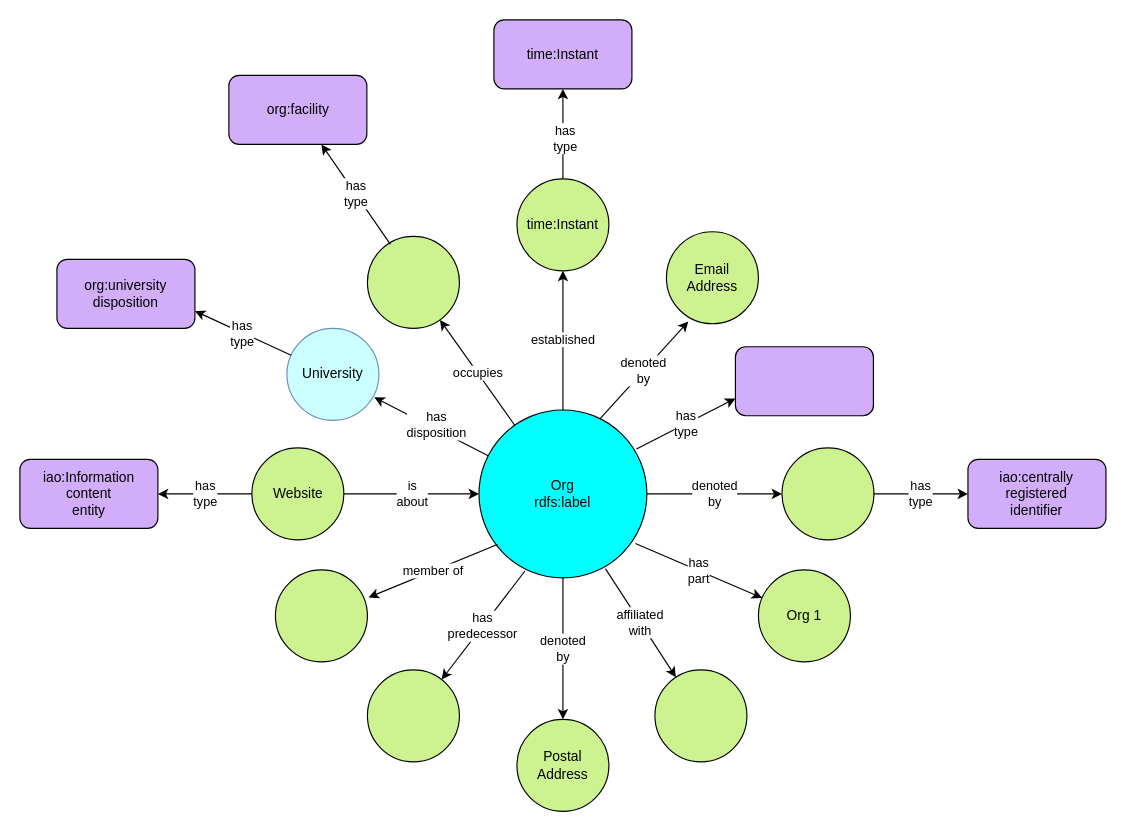
Some shapes in this 1127 by 833 pixel diagram are drawn without their labels. Each missing label, with the centre of its shape:
Facility: the point at 412,281
Org 2: the point at 700,715
Org 3: the point at 412,715
Org 4: the point at 320,615
org:Nonprofit: the point at 803,381
ROR ID: the point at 827,493
